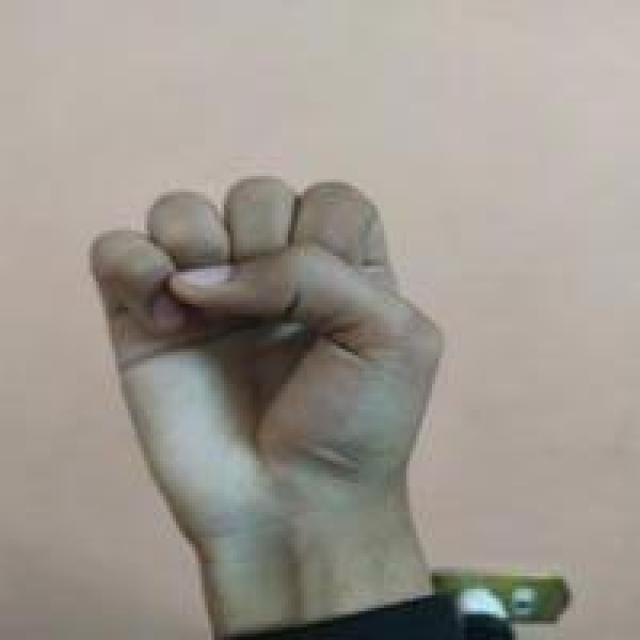E: (88, 172, 450, 558)
